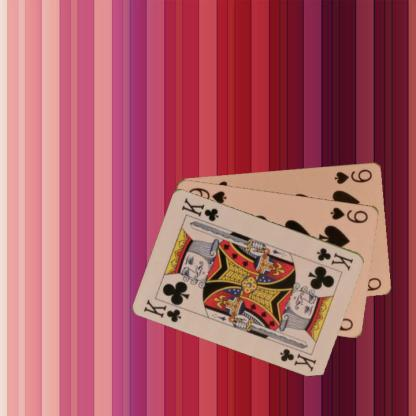9s: (327, 205, 370, 224), (332, 166, 373, 185)
Kc: (142, 296, 183, 323), (314, 245, 354, 272)
